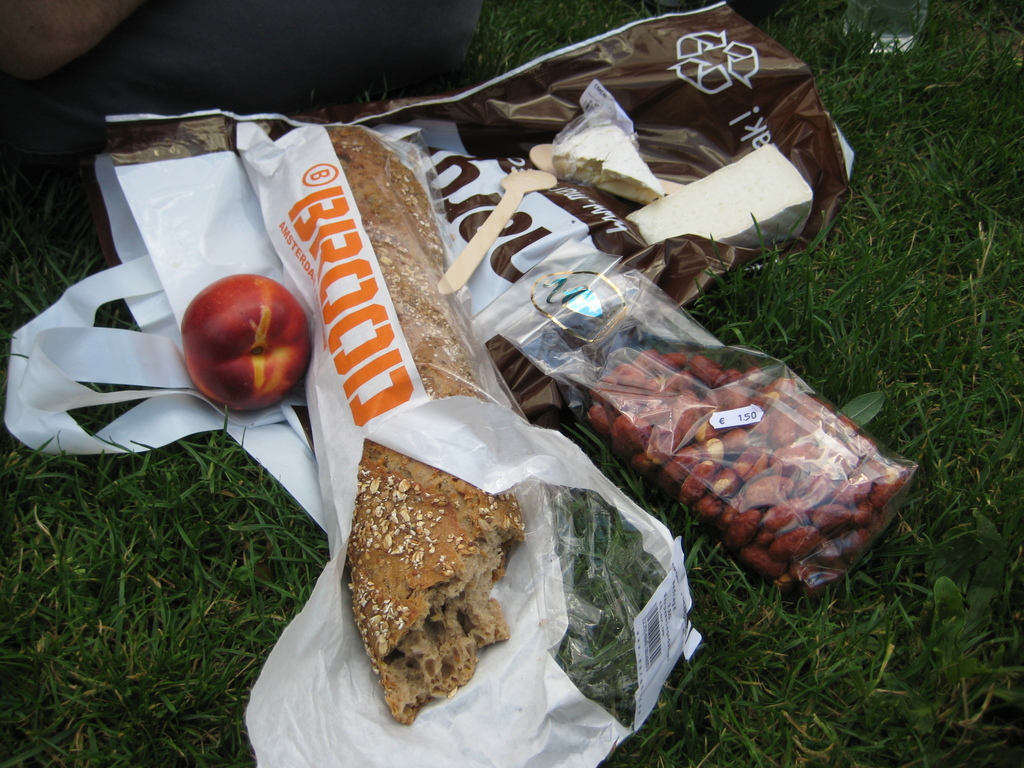Apple: (171, 279, 302, 421)
